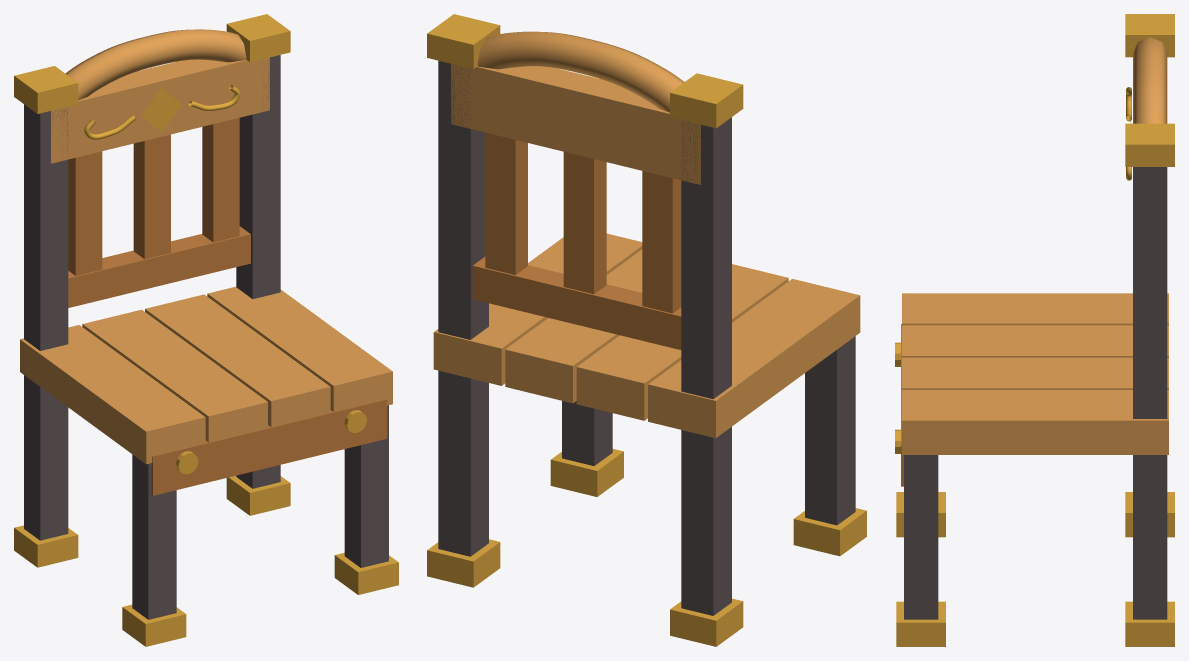
The model's file is cafe-chair.glb.
The picture shows the model from 3 angles, left to right: view 1: azimuth 30°, elevation 25°; view 2: azimuth 150°, elevation 25°; view 3: azimuth 270°, elevation 25°; orthographic projection. The views are drawn at different scales.
Visible parts, largest first — view 1: Seat oak plank, Back top rail, Back upright, Seat oak plank.001, Seat oak plank.002, Seat oak plank.003, Seat front apron, Back upright.001, Back lower rail, Iron leg.001, Iron leg, Curved back crest (+12 smaller); view 2: Back top rail, Seat oak plank, Back upright, Back upright.001, Iron leg.001, Iron leg.003, Back lower rail, Iron leg, Seat oak plank.001, Curved back crest, Seat oak plank.002, Seat oak plank.003 (+10 smaller); view 3: Seat oak plank.003, Back upright.001, Seat oak plank, Seat oak plank.001, Seat oak plank.002, Iron leg.002, Iron leg.003, Curved back crest, Back post cap.001, Brass foot.002, Brass foot.003, Back post cap (+2 smaller).
Part boxes in pixels (x1,y1,x2,y2): Seat oak plank: (20, 325, 205, 464); Back top rail: (51, 57, 269, 163); Back upright: (24, 104, 68, 350); Seat oak plank.001: (82, 309, 267, 442); Seat oak plank.002: (145, 294, 330, 427); Seat oak plank.003: (207, 286, 392, 411); Seat front apron: (151, 399, 387, 495); Back upright.001: (236, 55, 280, 298); Back lower rail: (68, 226, 250, 307); Iron leg.001: (24, 375, 68, 540); Iron leg: (132, 454, 176, 619); Curved back crest: (65, 29, 246, 100); Back top rail: (451, 64, 700, 184); Seat oak plank: (648, 279, 860, 438); Back upright: (681, 117, 731, 399); Back upright.001: (438, 60, 488, 339); Iron leg.001: (681, 427, 731, 615); Iron leg.003: (438, 370, 488, 556); Back lower rail: (472, 256, 681, 349); Iron leg: (805, 336, 855, 525); Seat oak plank.001: (576, 264, 788, 420); Curved back crest: (477, 31, 684, 112); Seat oak plank.002: (505, 249, 642, 403); Seat oak plank.003: (433, 233, 642, 385); Seat oak plank.003: (902, 390, 1168, 454); Back upright.001: (1133, 167, 1167, 418); Seat oak plank: (902, 293, 1168, 325); Seat oak plank.001: (902, 325, 1168, 357); Seat oak plank.002: (902, 357, 1168, 389); Iron leg.002: (904, 455, 938, 619); Iron leg.003: (1133, 455, 1167, 619); Curved back crest: (1133, 37, 1167, 123); Back post cap.001: (1125, 123, 1174, 166); Brass foot.002: (896, 601, 945, 646); Brass foot.003: (1125, 601, 1174, 646); Back post cap: (1125, 14, 1174, 57).
Size of the model in its own units: 0.81 by 1.5 by 0.733.
